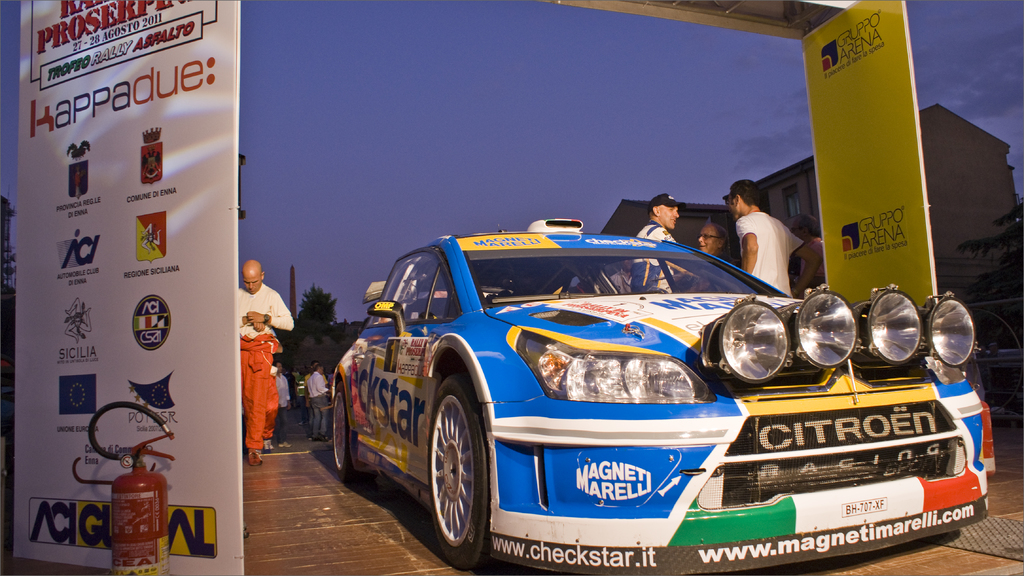mobil: (328, 229, 1024, 576)
